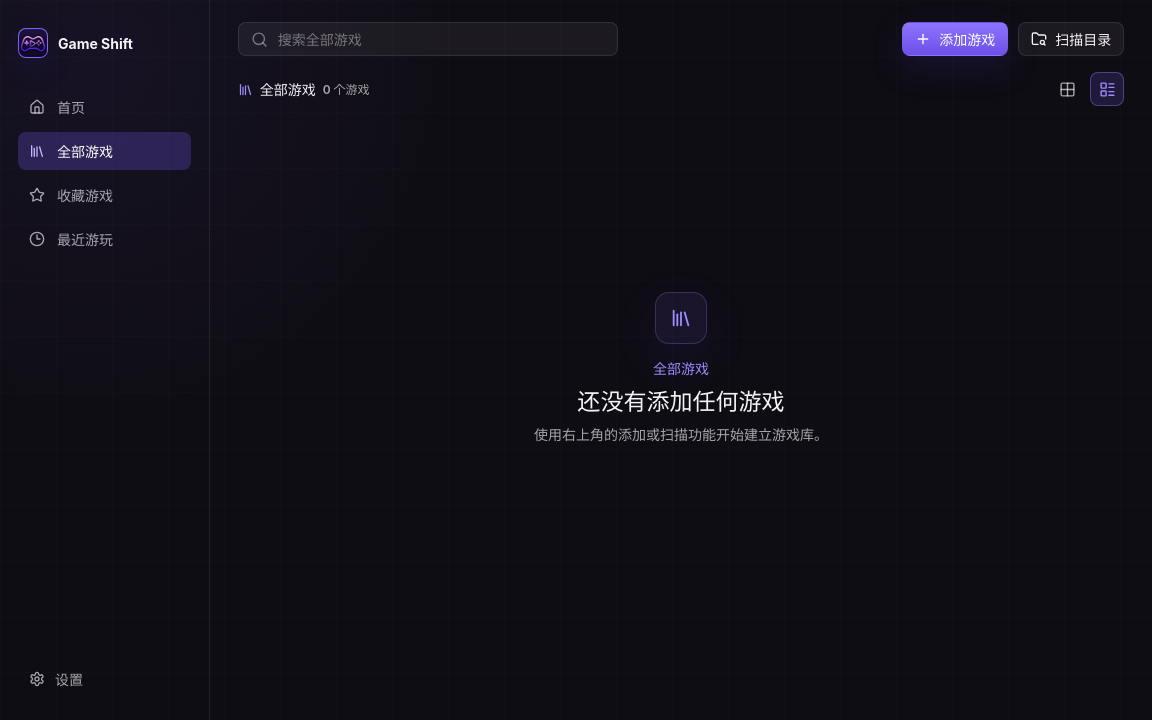
GameLibraryLayout › opens the add game dialog when the add button is clicked
Click the button "添加游戏": (955, 39) [902,22,1008,56]
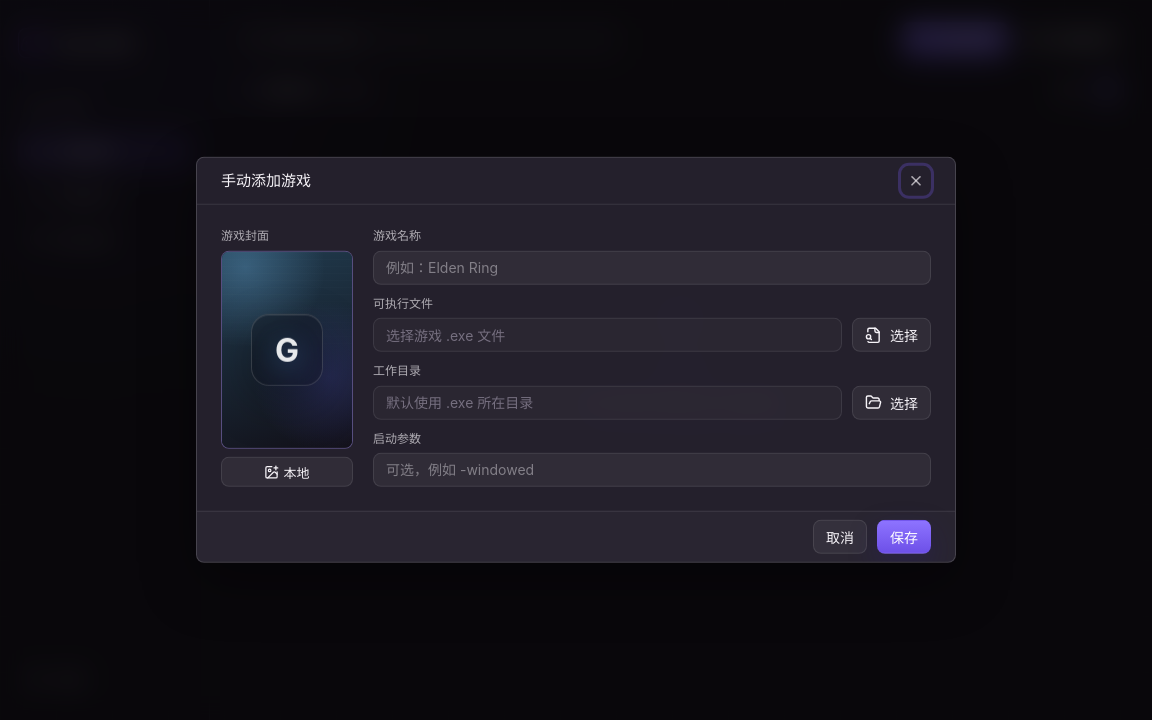
Expected: the dialog is shown, [196,157,956,563]
Expected: the dialog shows "手动添加游戏", [221,170,311,189]
